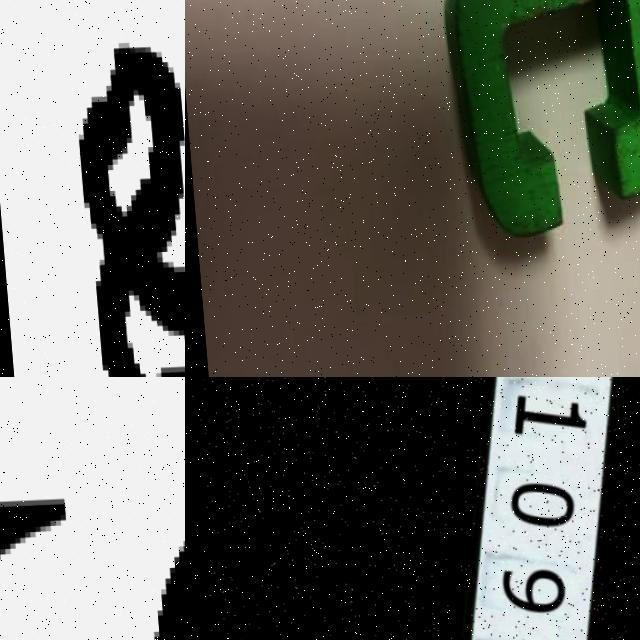0: (492, 468, 592, 538)
1: (498, 377, 604, 453)
9: (481, 553, 581, 626)
C: (446, 0, 640, 255)
G: (77, 149, 185, 377)
S: (0, 471, 185, 640)
